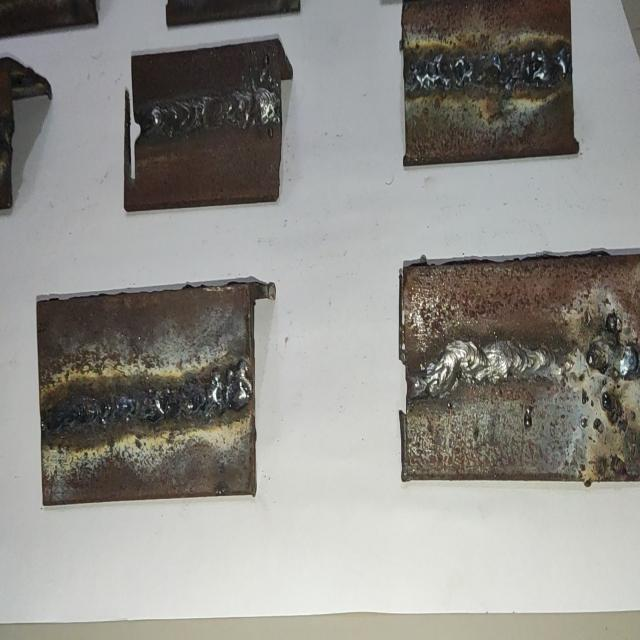Defect: (50, 383, 198, 438), (581, 306, 640, 436), (408, 49, 570, 91), (201, 358, 253, 420)
Good Weld: (407, 339, 551, 405), (140, 84, 280, 140)
